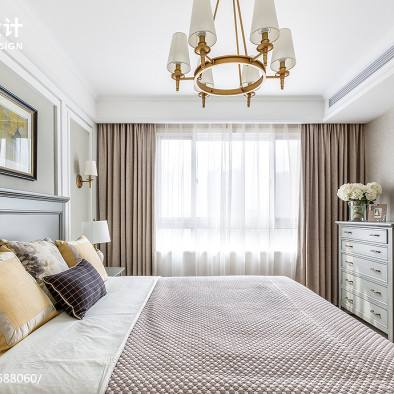床: (0, 273, 394, 394)
枕头: (3, 235, 104, 333)
灯: (163, 0, 305, 111), (81, 218, 111, 263), (72, 156, 96, 194)
